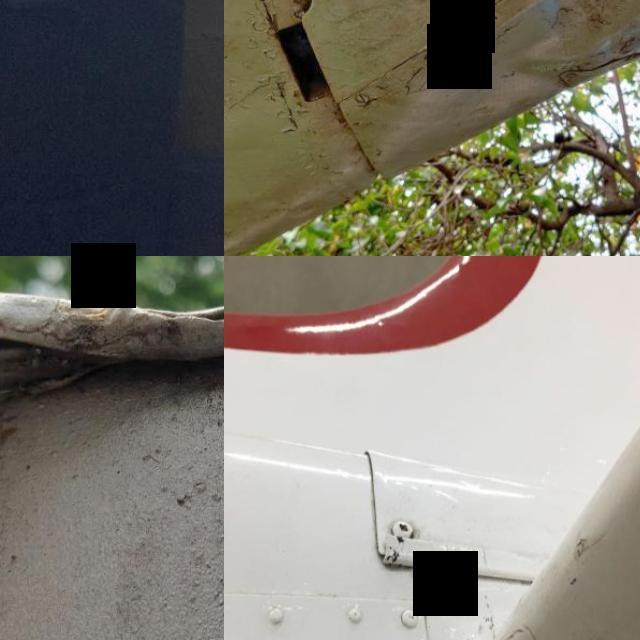Crack: (479, 501, 640, 640), (141, 267, 224, 402), (368, 520, 512, 595)
Dent: (499, 0, 640, 105)
Missing_Fastener: (415, 42, 453, 78)
